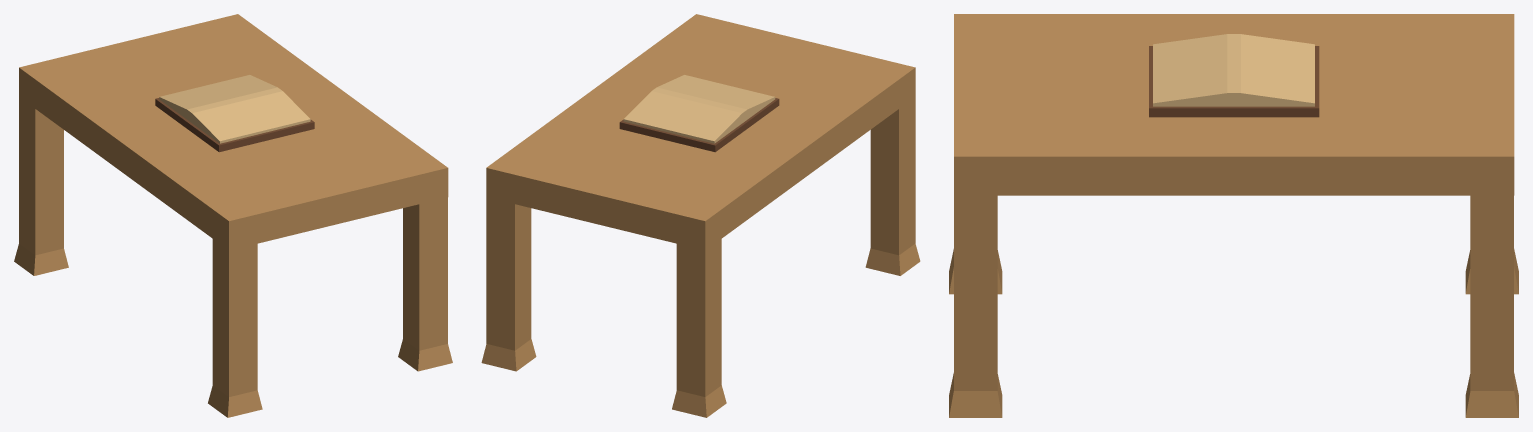
The model's file is CraftingTable.fbx.
The picture shows the model from 3 angles, left to right: view 1: azimuth 30°, elevation 25°; view 2: azimuth 150°, elevation 25°; view 3: azimuth 270°, elevation 25°; orthographic projection. The views are drawn at different scales.
Parts seen in each view (by area): view 1: Cube, Cube.001, Cube.005, Cube.004, Cube.006, Cube.002; view 2: Cube, Cube.004, Cube.003, Cube.001, Cube.006, Cube.002; view 3: Cube, Cube.006, Cube.003, Cube.005, Cube.002.
Boxes of the visible parts, <box> form: Cube: <box>19,14,448,250</box>; Cube.001: <box>208,239,262,417</box>; Cube.005: <box>398,197,452,371</box>; Cube.004: <box>14,97,68,275</box>; Cube.006: <box>159,75,310,143</box>; Cube.002: <box>155,98,314,152</box>; Cube: <box>486,14,915,250</box>; Cube.004: <box>672,239,726,417</box>; Cube.003: <box>481,197,536,371</box>; Cube.001: <box>865,97,920,275</box>; Cube.006: <box>623,75,775,143</box>; Cube.002: <box>619,98,779,152</box>; Cube: <box>954,14,1514,195</box>; Cube.006: <box>1153,34,1314,106</box>; Cube.003: <box>1465,195,1518,417</box>; Cube.005: <box>949,195,1002,417</box>; Cube.002: <box>1149,46,1319,117</box>.
Size of the model in its own units: 205 by 184 by 337.
